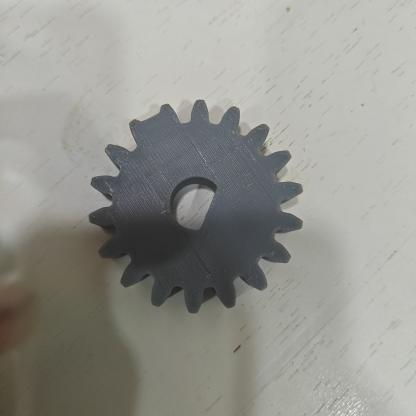defect: (118, 101, 183, 148), (191, 171, 226, 240)
gear: (89, 100, 302, 313)
